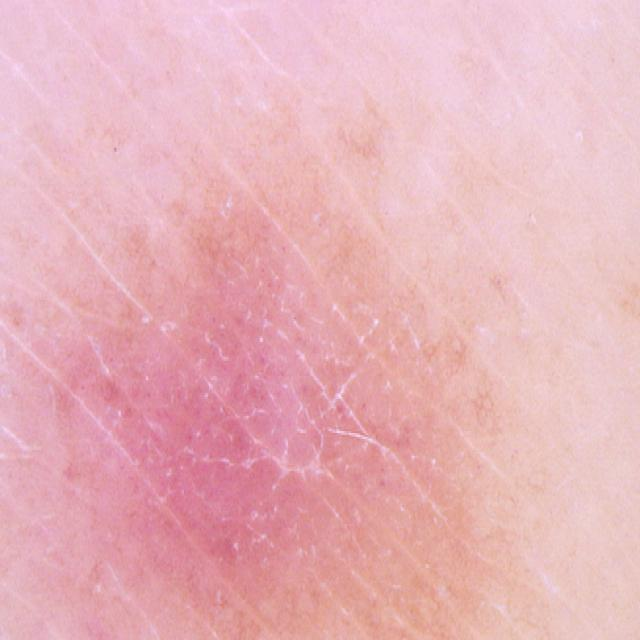Dermatofibroma: (42, 112, 478, 640)
